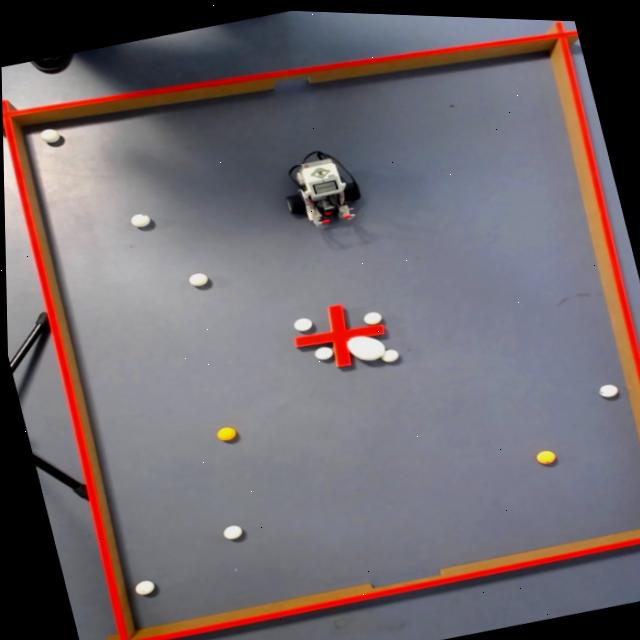boundaries: (2, 16, 640, 640), (22, 45, 640, 626)
cross: (290, 300, 383, 364)
egg: (343, 326, 386, 362)
large_goal: (354, 557, 454, 600)
orange_ball: (211, 421, 236, 441), (531, 442, 555, 460)
robot: (273, 138, 367, 232)
small_goal: (263, 61, 316, 91)
white_ball: (593, 374, 620, 396), (216, 519, 244, 539), (128, 574, 154, 595), (358, 304, 383, 324), (288, 311, 313, 331), (310, 340, 334, 360), (184, 267, 209, 286), (37, 124, 60, 144), (127, 209, 151, 227), (376, 342, 400, 360)
